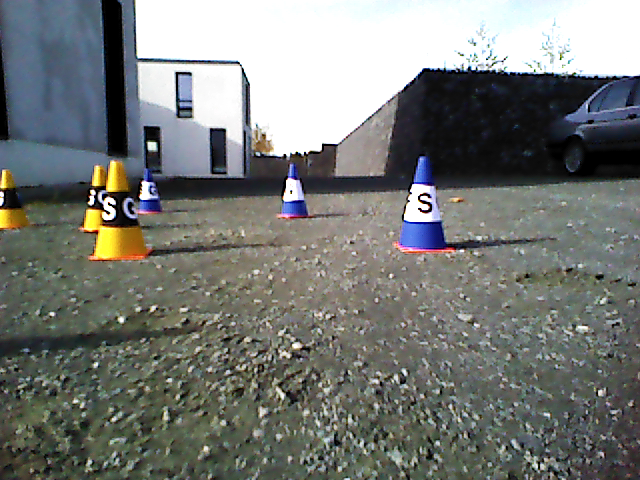bluecone: (401, 157, 447, 248), (282, 163, 306, 214), (137, 169, 161, 210)
yellowcone: (95, 160, 145, 255), (1, 169, 28, 225), (85, 165, 105, 229)
